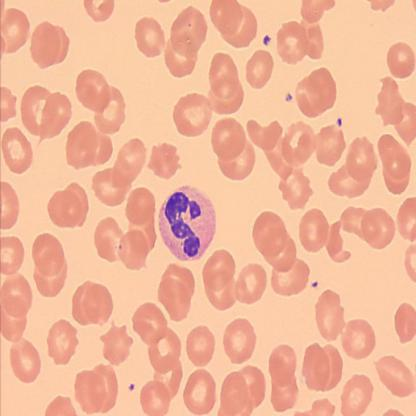Segmented neutrophil: (156, 181, 218, 262)
